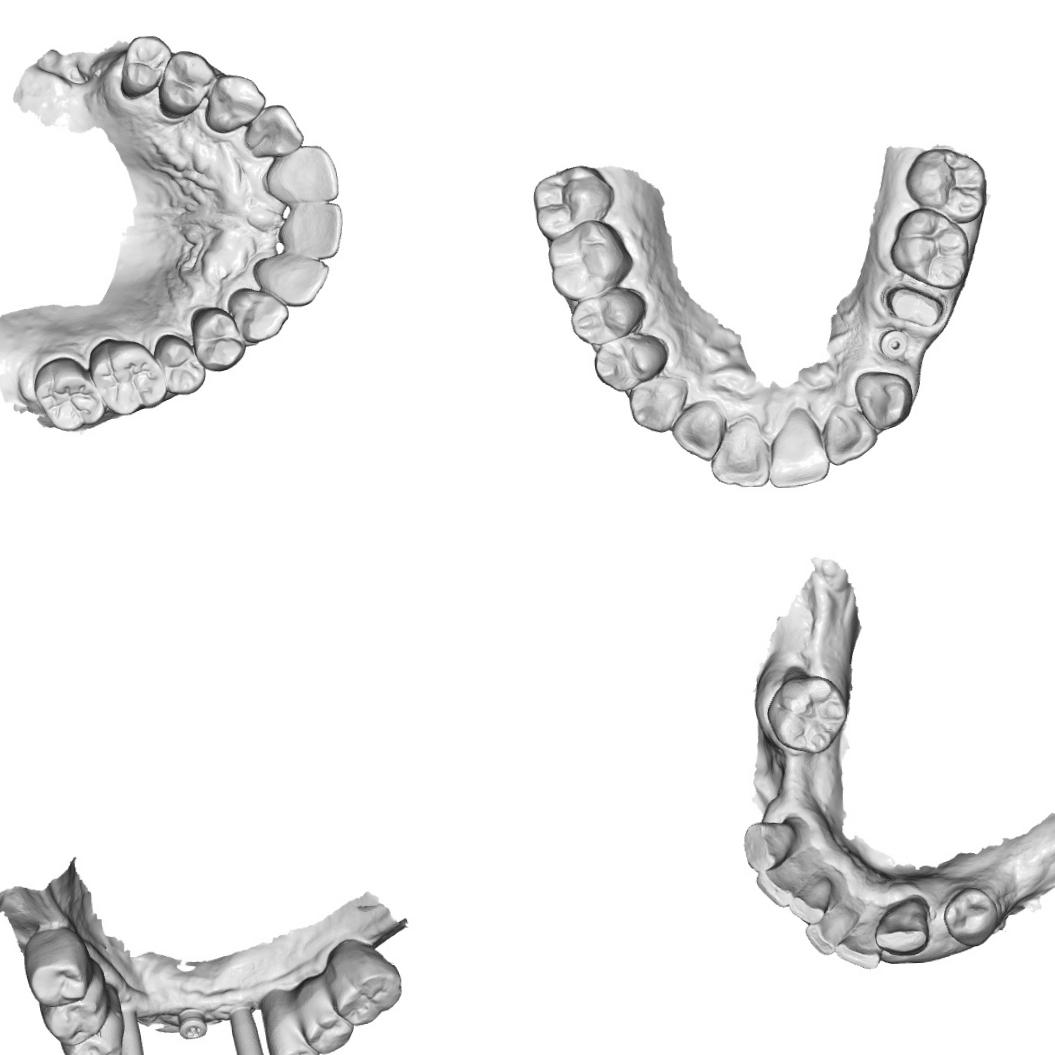canine: (202, 71, 266, 134), (872, 893, 933, 958), (853, 369, 915, 432), (227, 285, 290, 344), (628, 375, 691, 434), (741, 816, 803, 872)
crown: (879, 279, 949, 331)
implant: (229, 1001, 268, 1055), (114, 1004, 149, 1055), (876, 326, 912, 360)
implant_plus: (171, 1002, 211, 1047)
incisor: (764, 405, 830, 489), (707, 414, 772, 489), (262, 144, 340, 205), (252, 251, 332, 309), (275, 201, 346, 260), (670, 400, 726, 464), (822, 404, 878, 466), (244, 103, 305, 159), (803, 904, 856, 956), (832, 923, 886, 972), (786, 877, 835, 928), (754, 860, 802, 910)
molar: (546, 216, 637, 302), (763, 672, 851, 758), (887, 206, 972, 292), (530, 162, 618, 242), (903, 145, 989, 226), (326, 943, 408, 1027), (88, 336, 170, 416), (31, 355, 106, 433), (22, 931, 96, 1008), (156, 48, 216, 120), (117, 34, 176, 101)
premolar: (568, 284, 650, 348), (592, 330, 671, 393), (940, 884, 1001, 950), (188, 305, 247, 373), (47, 992, 109, 1048), (152, 333, 207, 396), (306, 998, 349, 1050), (68, 1028, 121, 1055), (272, 1030, 324, 1055)
